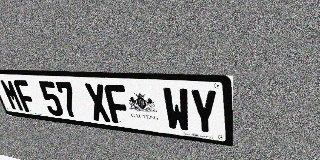5: (38, 81, 65, 117)
7: (54, 82, 82, 119)
F: (103, 84, 132, 125), (12, 80, 39, 114)
M: (0, 79, 25, 112)
W: (162, 87, 192, 132)
X: (84, 83, 112, 123)
Y: (189, 88, 219, 136)
